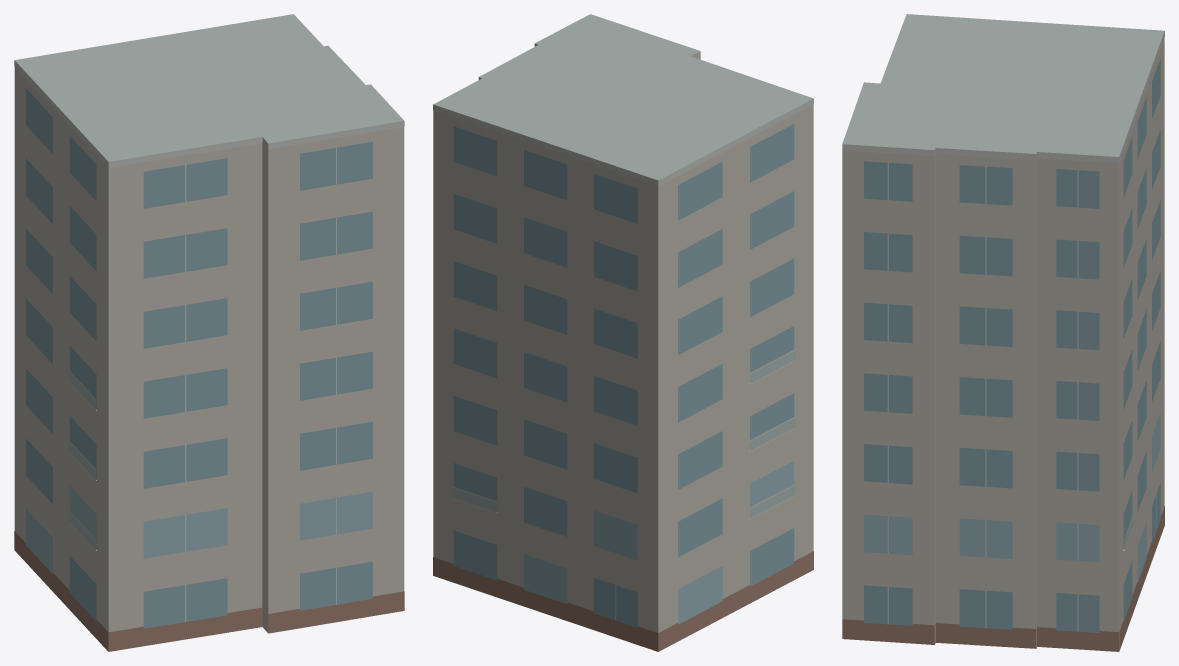
The model's file is survey-upis-32655247.glb.
3 renders of one model, left to right at view 1: azimuth 30°, elevation 25°; view 2: azimuth 150°, elevation 25°; view 3: azimuth 270°, elevation 25°, orthographic. The views are drawn at different scales.
Visible parts, largest first — view 1: survey-upis-32655247.tmp; view 2: survey-upis-32655247.tmp; view 3: survey-upis-32655247.tmp.
Part boxes in pixels (x1,y1,x2,y2): survey-upis-32655247.tmp: [14, 14, 404, 651]; survey-upis-32655247.tmp: [433, 14, 813, 651]; survey-upis-32655247.tmp: [842, 14, 1164, 651].
Size of the model in its own units: 12.13 by 19.55 by 11.56.
